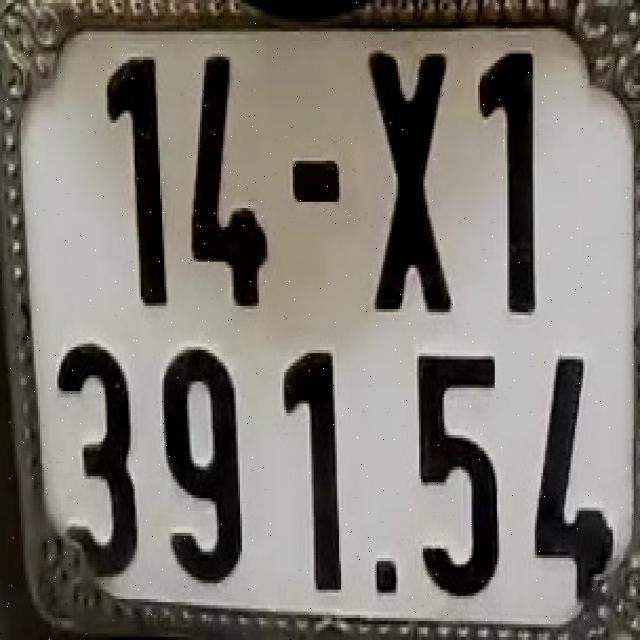1: (276, 337, 362, 596), (472, 39, 552, 317), (97, 44, 177, 309)
3: (51, 332, 143, 582)
4: (183, 42, 276, 310), (525, 344, 618, 605)
5: (407, 339, 508, 597)
9: (154, 334, 253, 590)
X: (365, 42, 456, 317)
